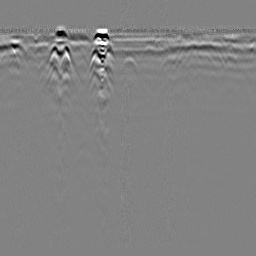cavity: (119, 53, 139, 69)
